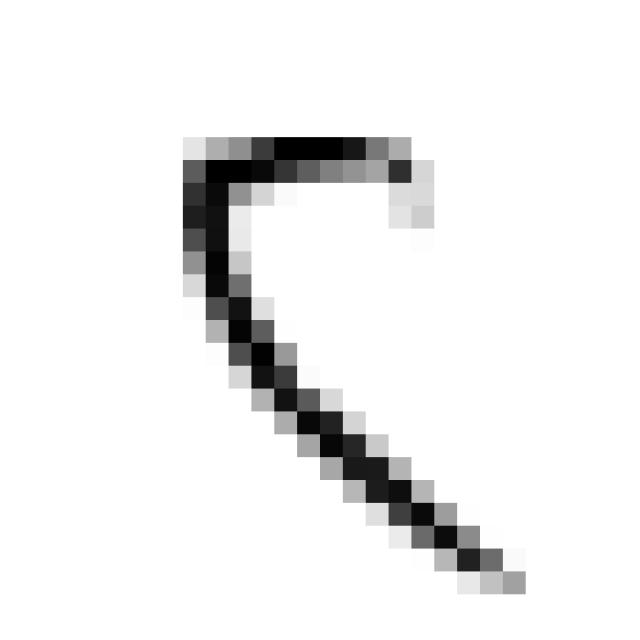2 -two-: (165, 110, 553, 614)
